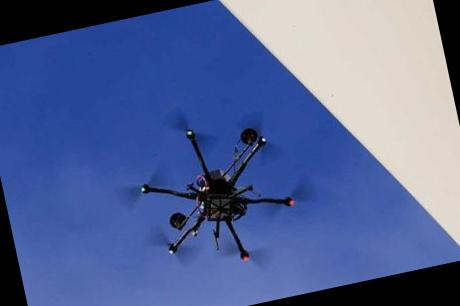drone: (104, 81, 327, 284)
